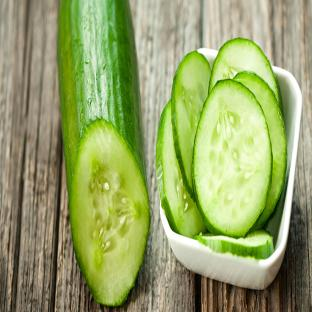Cucumber: (58, 0, 150, 305), (193, 80, 272, 237), (234, 72, 287, 228), (156, 100, 206, 237), (172, 51, 210, 198), (210, 38, 283, 113), (194, 230, 273, 259)
